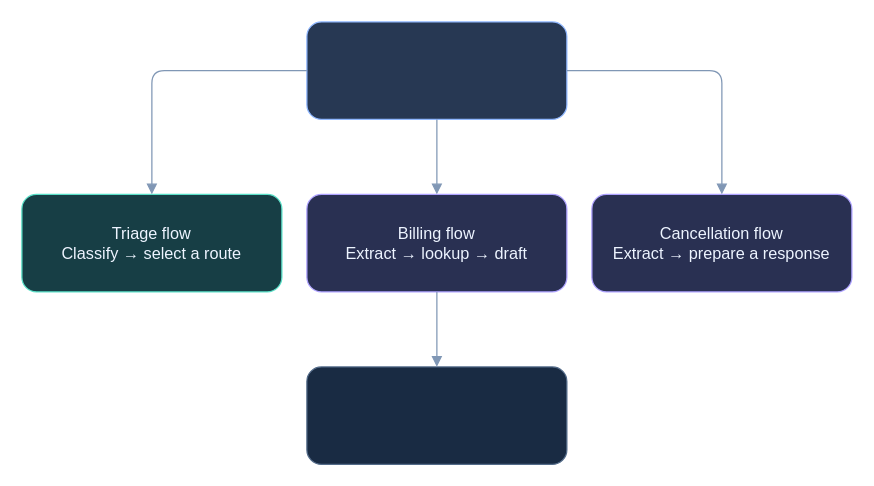
The diagram is 874 pixels wide and 486 high, and some of its shapes have lost their labels. The centre of each missing label's shape, as x and y in pixels:
"Steps run in order One bounded operation at a time" belongs at pixel 436 415.
"Workflow The complete support process" belongs at pixel 436 70.
